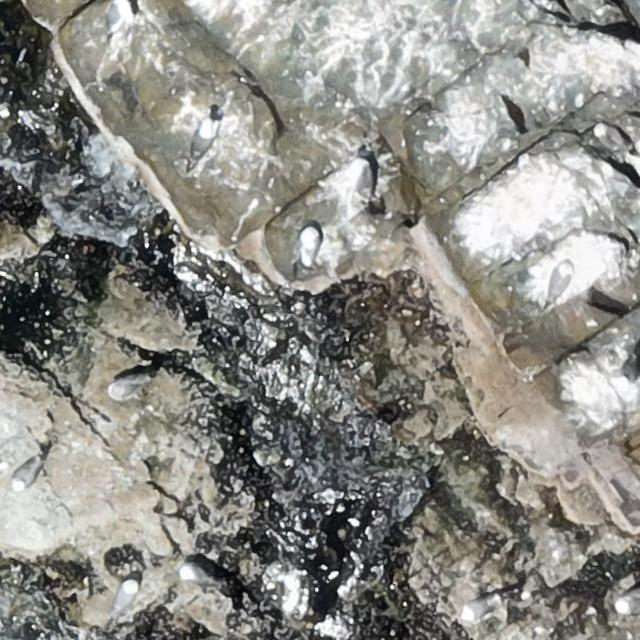umineko: (544, 257, 576, 305), (594, 124, 634, 156), (12, 454, 44, 491), (106, 376, 146, 403), (177, 562, 218, 586), (298, 226, 324, 263), (462, 598, 500, 619), (115, 579, 136, 610), (195, 121, 212, 156), (614, 596, 640, 615)
